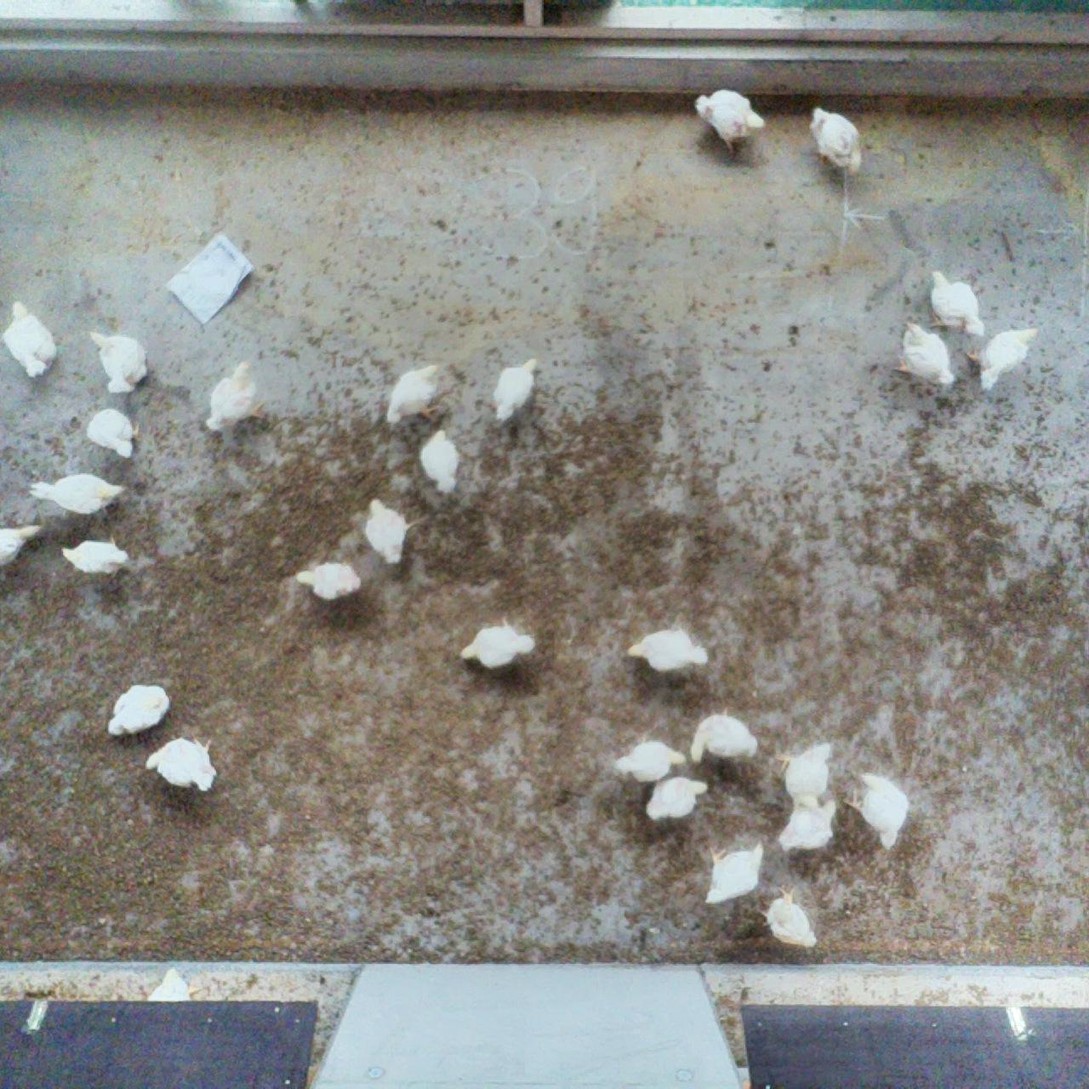chicken: (690, 83, 772, 168), (454, 616, 545, 674), (853, 767, 911, 855), (926, 265, 991, 343), (974, 321, 1045, 392), (29, 469, 137, 514), (685, 707, 767, 765), (207, 356, 267, 435), (628, 622, 715, 676), (775, 797, 844, 863), (811, 106, 871, 180), (382, 361, 449, 426), (704, 840, 770, 905), (2, 299, 55, 379), (92, 324, 150, 396), (787, 736, 840, 812), (150, 735, 219, 793), (642, 772, 707, 832), (903, 324, 961, 390), (602, 736, 687, 780), (356, 500, 412, 565), (293, 557, 367, 604), (106, 679, 167, 736), (492, 353, 540, 424), (770, 891, 824, 952), (420, 432, 466, 497), (84, 407, 140, 458), (61, 541, 131, 579), (0, 522, 41, 565)
